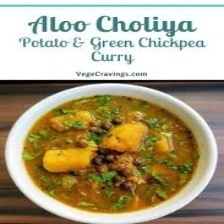sabzi: (23, 95, 199, 212)
